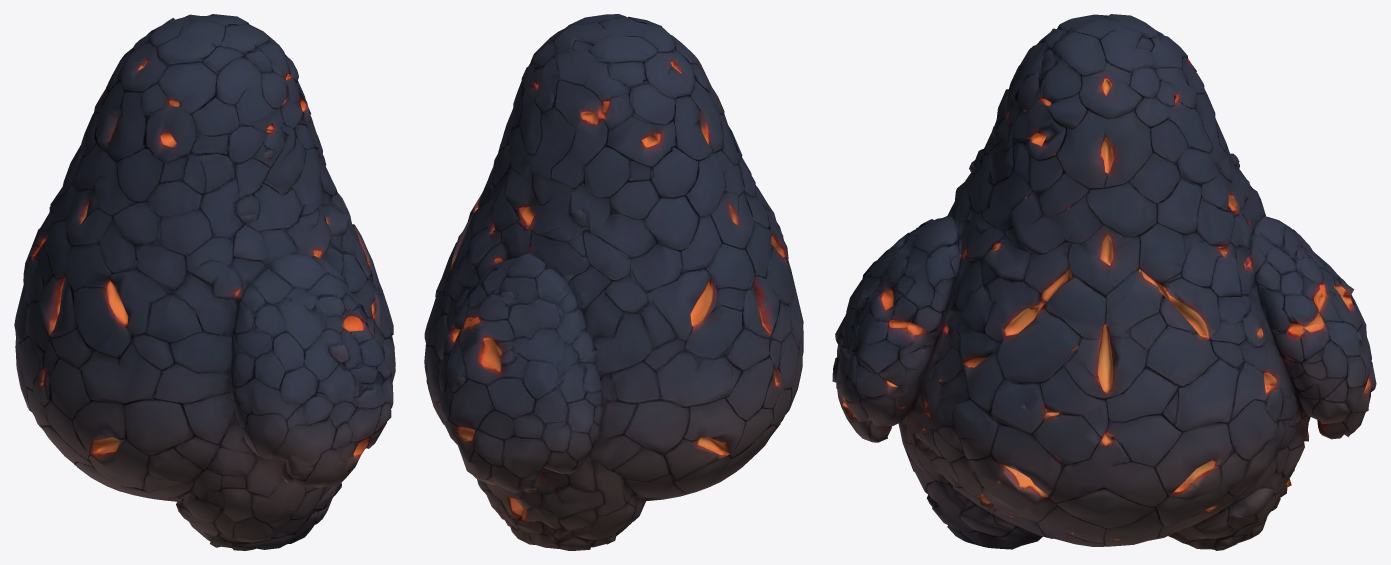
File: body.glb
3 views of the same model, side by side, from view 1: azimuth 30°, elevation 25°; view 2: azimuth 150°, elevation 25°; view 3: azimuth 270°, elevation 25° (orthographic). The views are drawn at different scales.
Parts seen in each view (by area): view 1: tripo_node_13d721e6-e106-4b92-bfc7-d79b0d59bf25; view 2: tripo_node_13d721e6-e106-4b92-bfc7-d79b0d59bf25; view 3: tripo_node_13d721e6-e106-4b92-bfc7-d79b0d59bf25.
Part boxes in pixels (x1,y1,x2,y2): tripo_node_13d721e6-e106-4b92-bfc7-d79b0d59bf25: (14, 14, 395, 550); tripo_node_13d721e6-e106-4b92-bfc7-d79b0d59bf25: (424, 14, 803, 550); tripo_node_13d721e6-e106-4b92-bfc7-d79b0d59bf25: (832, 14, 1376, 550).
Bounding box in the file's own units: 0.7229 × 1 × 0.981.
Materials: 1 (1 with a texture image).
